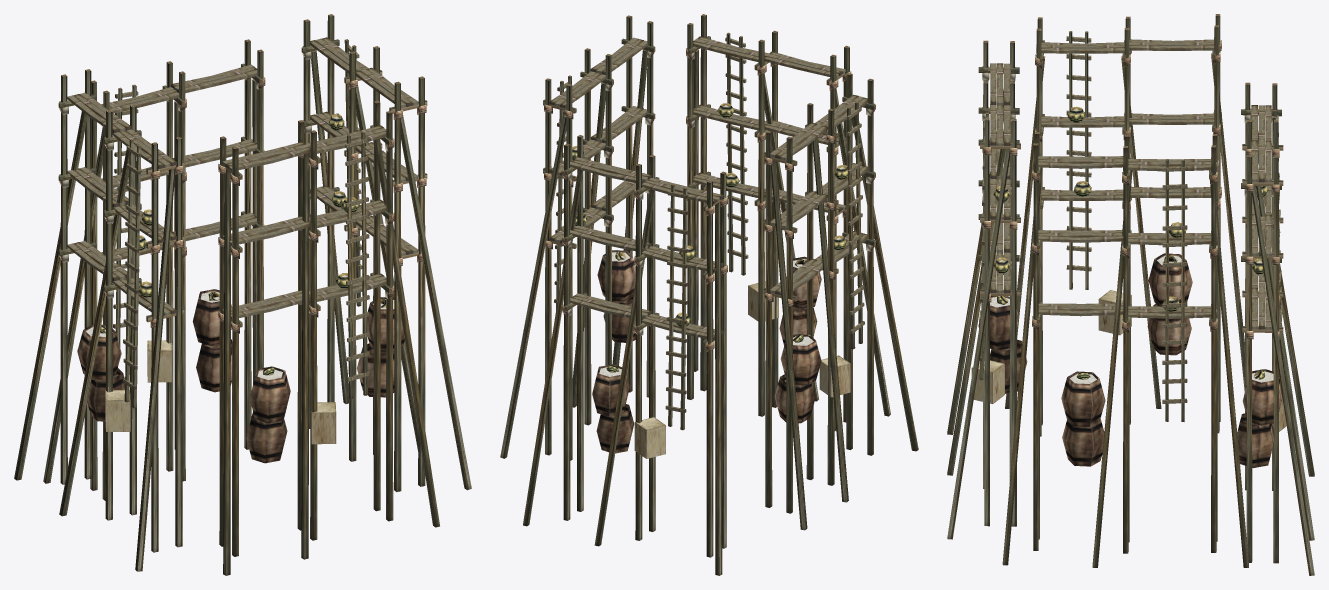
Rendered from scaffold_up_4x4.glb.
3 renders of one model, left to right at view 1: azimuth 30°, elevation 25°; view 2: azimuth 150°, elevation 25°; view 3: azimuth 270°, elevation 25°, orthographic. The views are drawn at different scales.
Parts seen in each view (by area): view 1: scaffold_up_4x4_part0; view 2: scaffold_up_4x4_part0; view 3: scaffold_up_4x4_part0.
Boxes of the visible parts, <box> form: scaffold_up_4x4_part0: <box>14,14,471,575</box>; scaffold_up_4x4_part0: <box>500,14,918,575</box>; scaffold_up_4x4_part0: <box>947,14,1314,575</box>.
Bounding box in the file's own units: 3.97 × 5.11 × 3.81.
1 material, 1 textured.
